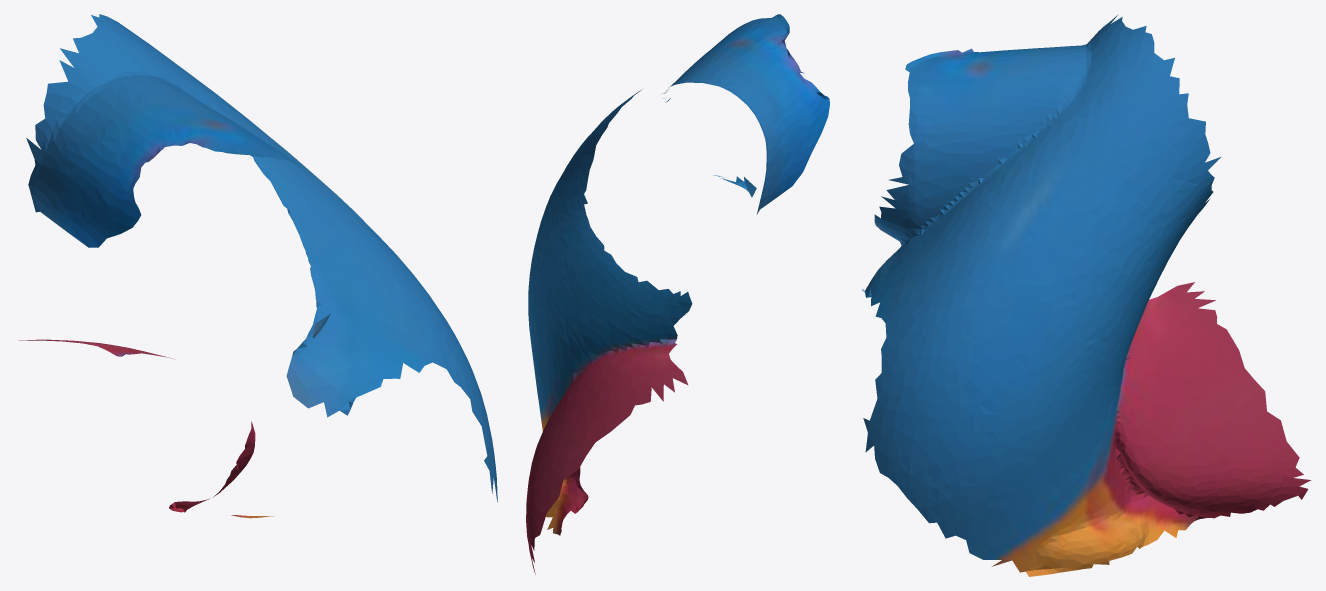
3 renders of one model, left to right at view 1: azimuth 30°, elevation 25°; view 2: azimuth 150°, elevation 25°; view 3: azimuth 270°, elevation 25°, orthographic. The views are drawn at different scales.
Parts seen in each view (by area): view 1: tripo_mesh_045d8eb0-72ec-4624-9759-a425f321d17a; view 2: tripo_mesh_045d8eb0-72ec-4624-9759-a425f321d17a; view 3: tripo_mesh_045d8eb0-72ec-4624-9759-a425f321d17a.
Part boxes in pixels (<box>): tripo_mesh_045d8eb0-72ec-4624-9759-a425f321d17a: <box>19,14,497,518</box>; tripo_mesh_045d8eb0-72ec-4624-9759-a425f321d17a: <box>526,14,829,574</box>; tripo_mesh_045d8eb0-72ec-4624-9759-a425f321d17a: <box>861,14,1311,576</box>.
Bounding box in the file's own units: 0.1402 × 0.2142 × 0.1907.
Materials: 1 (1 with a texture image).
